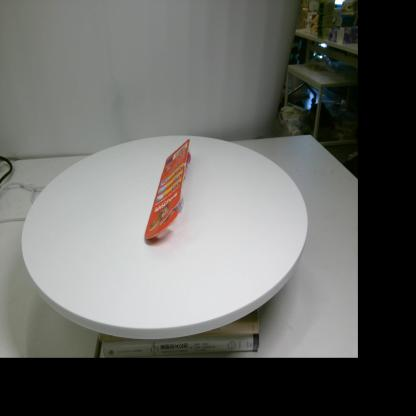Personal Hygiene: (145, 139, 191, 239)
